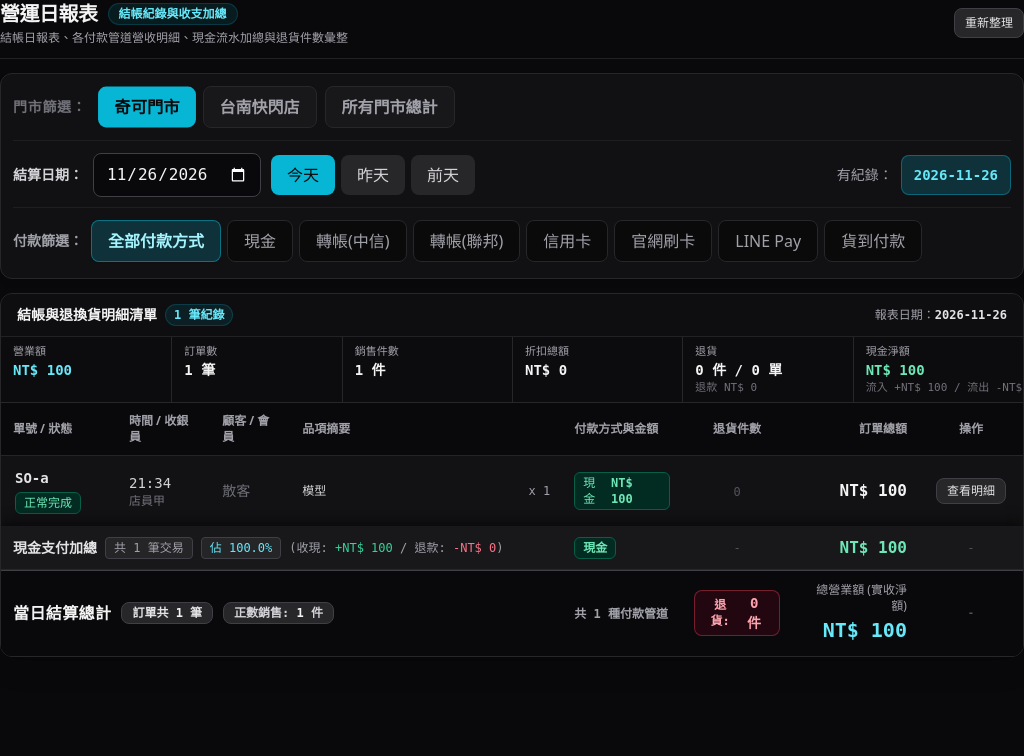
ReportsPage store buttons › lists the login store, other stores, then 所有門市總計, and adds a store column only for all stores
expect the text "SO-a" is shown: met, box [15, 468, 49, 488]
Click the button "所有門市總計" at x=390, y=107, box [324, 86, 454, 128]
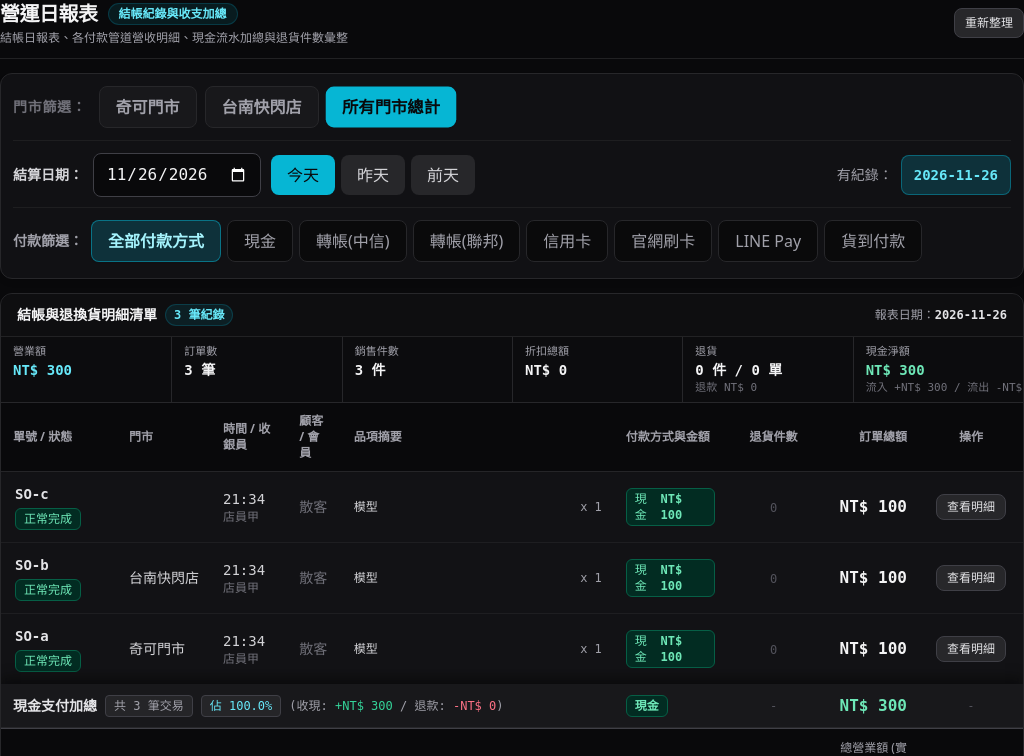
expect the text "SO-b" is shown: met, box [15, 555, 49, 575]
expect the column heading "門市" is shown: met, box [117, 403, 211, 472]
Click the button "查看明細" in the row of "SO-b" at x=971, y=578, box [936, 565, 1006, 591]
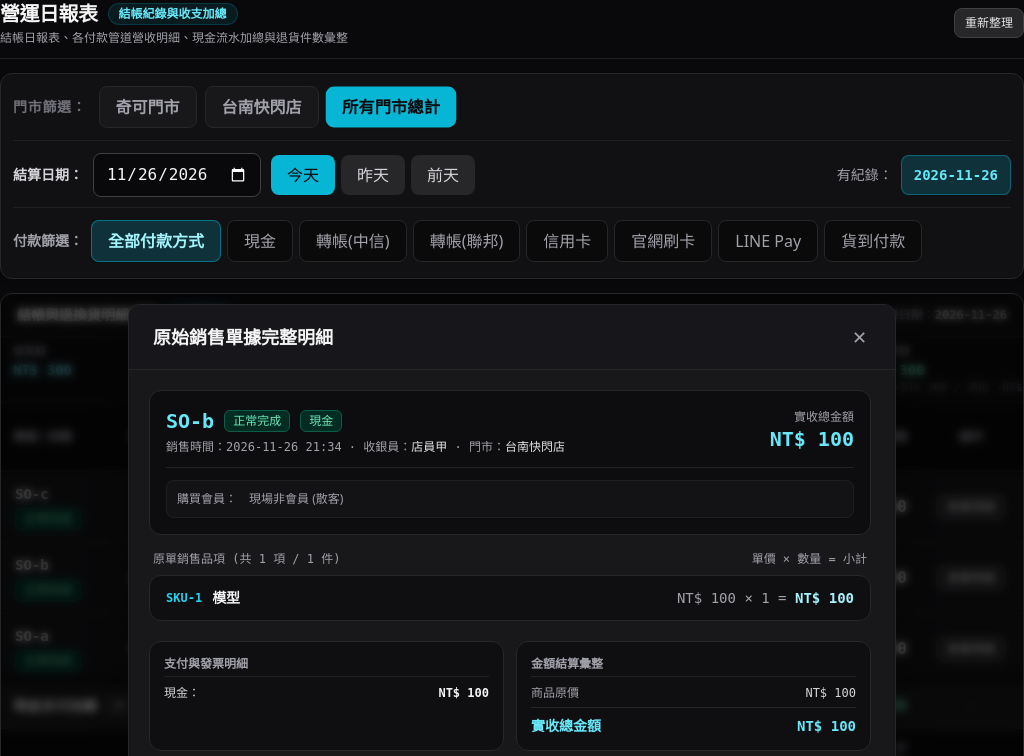
expect the text with test id "order-detail-store" reads "台南快閃店": met, box [505, 440, 565, 454]
